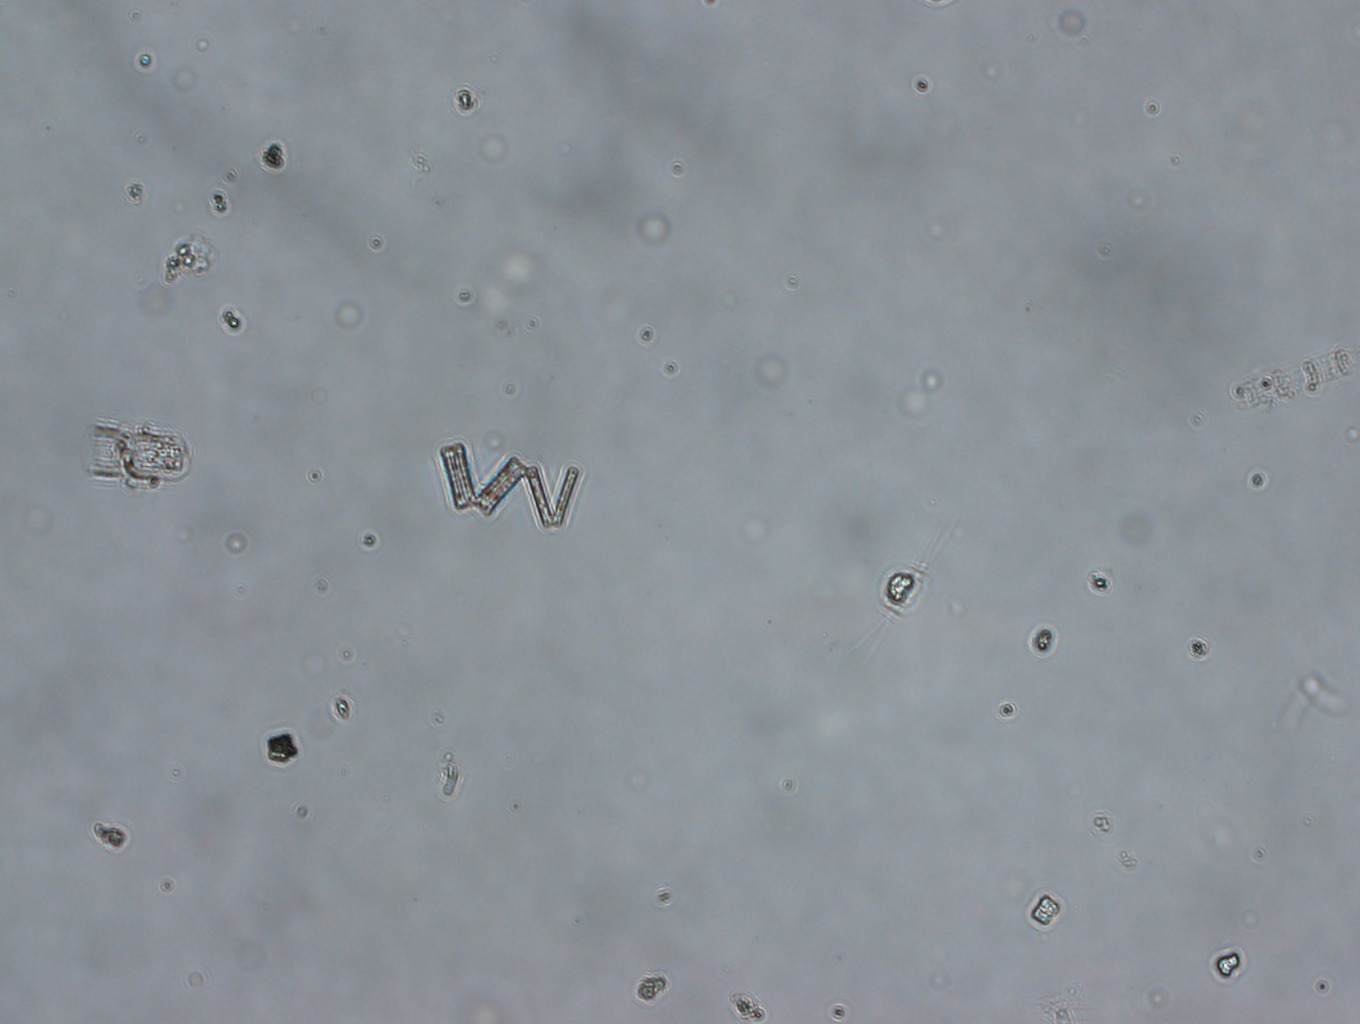thalassionema nitzschioides: (436, 441, 587, 534)
